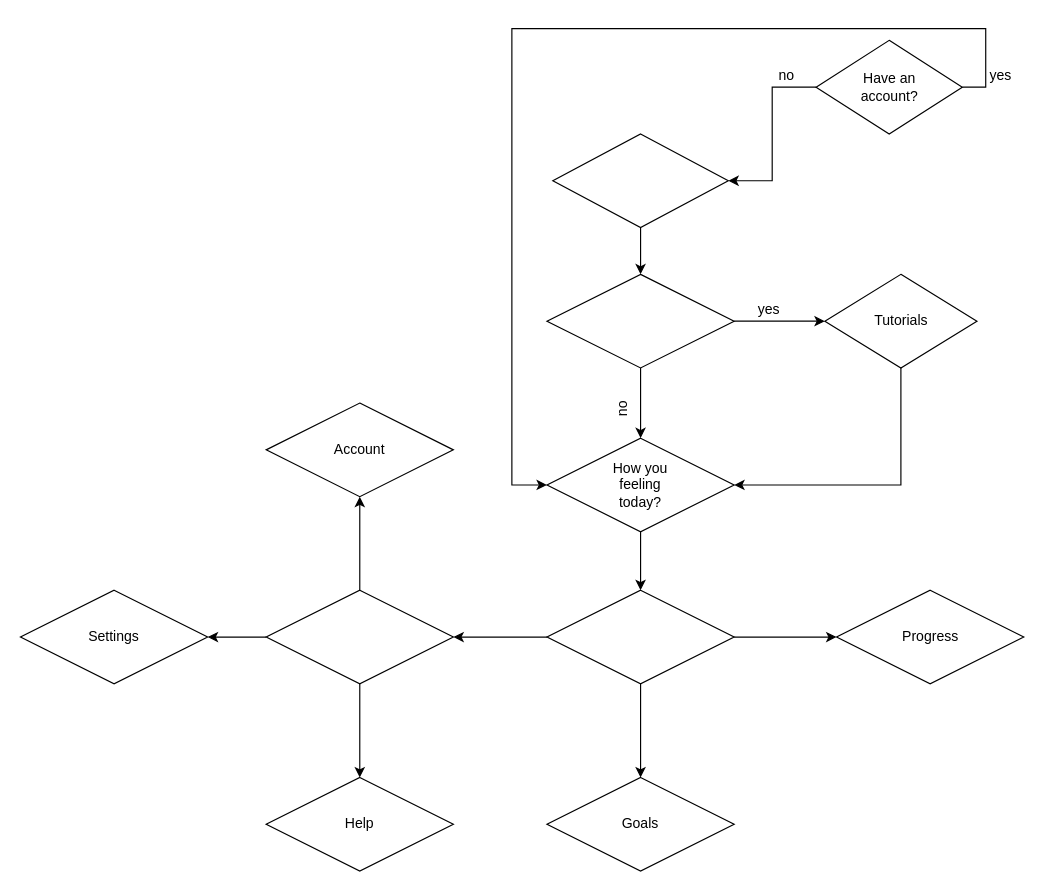
This 1045x892 diagram has some shape labels left out. Each missing label, with the centre of its shape:
Introduction: the point at 640,180
Login: the point at 640,320
Menu: the point at 640,636
User: the point at 359,636
